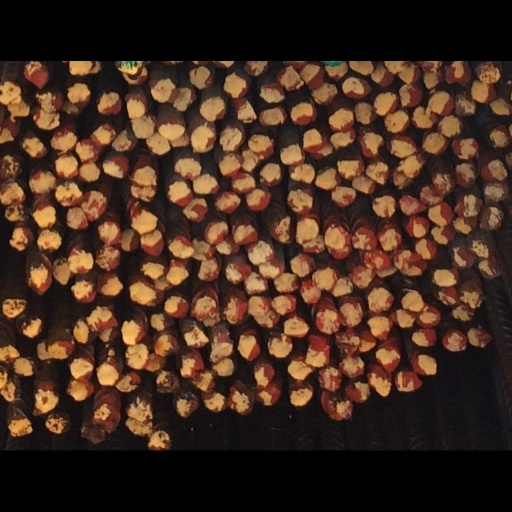dipstick: (22, 254, 50, 307), (77, 169, 106, 212), (45, 352, 74, 389), (86, 323, 116, 356), (93, 453, 121, 488), (386, 96, 418, 126), (244, 165, 274, 197), (32, 428, 60, 462), (22, 1, 49, 35), (151, 21, 178, 55), (218, 82, 244, 117), (335, 317, 364, 348), (447, 0, 473, 34), (248, 398, 274, 432), (32, 62, 62, 91), (289, 138, 317, 169), (27, 143, 54, 175), (453, 172, 480, 204), (309, 271, 336, 303), (95, 242, 119, 277), (223, 310, 247, 345), (125, 371, 149, 406), (247, 95, 274, 126), (367, 297, 392, 330), (467, 344, 491, 378), (452, 101, 481, 129), (200, 46, 226, 77), (54, 159, 80, 190), (429, 40, 454, 72), (102, 121, 126, 154), (228, 430, 252, 463), (274, 7, 301, 36), (348, 270, 375, 299), (394, 407, 423, 434), (247, 236, 274, 265), (459, 292, 485, 322), (46, 459, 71, 490), (68, 246, 92, 278), (192, 86, 215, 119), (36, 36, 63, 64), (482, 131, 509, 159), (366, 132, 393, 160), (352, 149, 379, 177), (236, 360, 262, 389), (8, 219, 34, 248), (375, 377, 400, 407), (287, 169, 311, 200), (367, 334, 391, 365), (318, 402, 342, 433), (97, 39, 120, 71), (479, 191, 502, 223), (32, 187, 55, 219), (174, 126, 201, 153), (482, 161, 509, 188), (215, 172, 241, 200), (341, 21, 369, 47), (383, 67, 409, 95), (289, 254, 315, 282), (51, 90, 76, 119), (222, 17, 247, 46), (453, 135, 477, 165), (405, 203, 429, 233), (373, 176, 396, 207), (374, 41, 396, 73), (429, 185, 451, 217), (352, 217, 374, 249), (269, 360, 291, 392), (192, 148, 219, 174), (257, 27, 283, 54), (338, 389, 364, 416), (168, 231, 194, 258), (257, 58, 285, 83), (412, 349, 437, 377), (287, 429, 315, 454), (228, 147, 253, 175), (0, 159, 24, 188), (131, 197, 155, 226), (36, 221, 60, 250), (131, 291, 155, 320), (18, 336, 42, 365), (12, 387, 36, 416), (174, 32, 195, 65), (184, 182, 207, 212), (218, 121, 241, 151), (360, 95, 383, 125), (451, 242, 474, 272), (246, 305, 269, 335), (259, 135, 281, 166), (194, 309, 216, 340), (111, 91, 137, 117), (411, 387, 436, 414), (97, 213, 122, 240), (291, 55, 315, 83), (329, 61, 353, 89), (271, 307, 295, 335), (164, 310, 188, 338), (68, 392, 92, 420), (243, 277, 266, 306), (0, 26, 20, 59), (315, 329, 337, 359), (118, 218, 139, 249), (90, 82, 115, 108), (353, 54, 378, 80), (65, 193, 90, 219), (442, 353, 466, 380), (416, 322, 440, 349), (399, 302, 423, 329), (259, 258, 283, 285), (328, 444, 352, 471), (189, 8, 212, 36), (315, 141, 338, 169), (431, 214, 454, 242), (398, 29, 420, 58), (0, 127, 21, 157), (337, 126, 362, 151), (119, 343, 144, 368), (378, 221, 402, 247), (147, 95, 170, 122), (74, 103, 97, 130), (280, 109, 303, 136), (204, 212, 227, 239), (70, 290, 93, 317), (3, 311, 26, 338), (454, 43, 477, 70), (56, 123, 76, 154), (326, 219, 346, 250), (131, 73, 153, 101), (167, 160, 189, 188), (302, 6, 323, 35), (332, 165, 356, 190), (422, 94, 446, 119), (364, 248, 388, 273), (174, 441, 198, 466), (7, 468, 32, 492), (412, 61, 435, 87), (224, 266, 247, 292), (64, 420, 87, 446), (471, 26, 493, 53), (234, 214, 256, 241), (97, 398, 119, 425), (234, 52, 255, 80), (414, 233, 435, 261), (285, 336, 306, 364), (301, 89, 321, 118), (204, 434, 224, 463), (398, 176, 422, 200), (433, 270, 457, 294), (129, 160, 155, 182), (210, 392, 236, 414), (100, 282, 121, 309), (453, 319, 475, 344), (346, 421, 368, 446), (141, 263, 163, 288), (154, 361, 176, 386), (68, 29, 89, 55), (158, 80, 184, 101), (134, 139, 157, 162), (295, 208, 317, 232), (196, 263, 218, 287), (210, 368, 232, 392), (125, 48, 145, 74), (394, 326, 416, 349), (437, 296, 457, 321), (23, 102, 45, 124), (288, 394, 309, 416), (167, 271, 187, 293), (80, 136, 99, 157)
